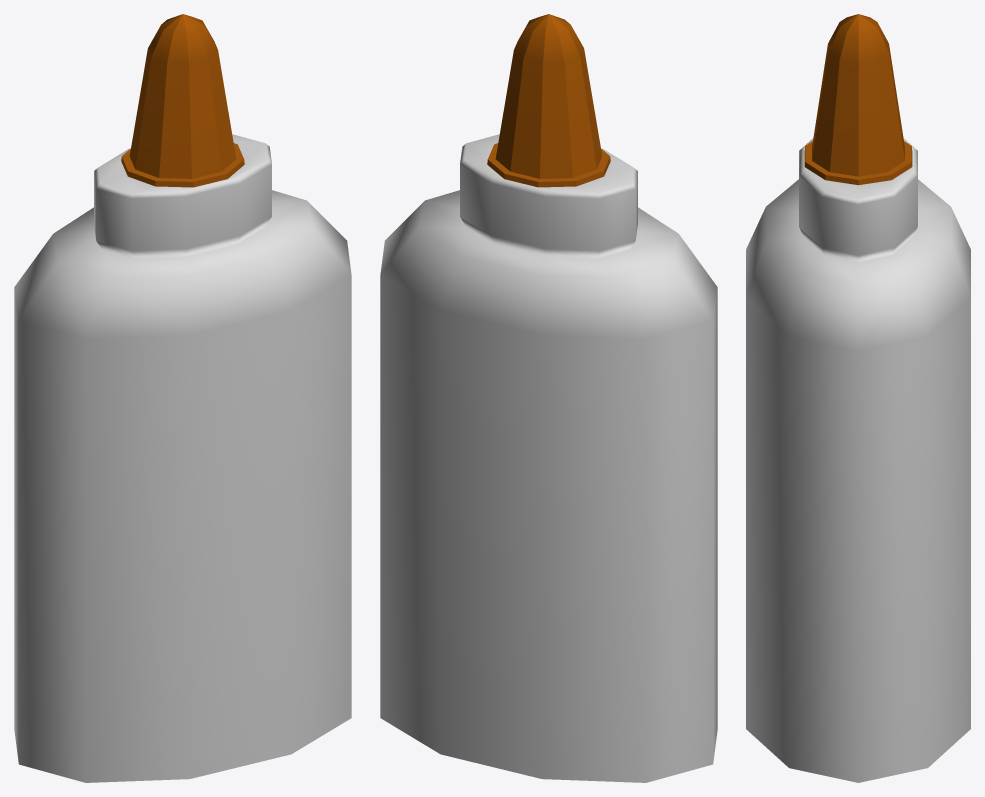
The model's file is Glue.fbx.
3 renders of one model, left to right at view 1: azimuth 30°, elevation 25°; view 2: azimuth 150°, elevation 25°; view 3: azimuth 270°, elevation 25°, orthographic. The views are drawn at different scales.
Parts seen in each view (by area): view 1: Glue; view 2: Glue; view 3: Glue.
Part boxes in pixels (x1=…): Glue: x1=14, y1=14, x2=351, y2=782; Glue: x1=380, y1=14, x2=717, y2=782; Glue: x1=746, y1=14, x2=970, y2=782.
Bounding box in the file's own units: 20 × 41.36 × 12.19.
